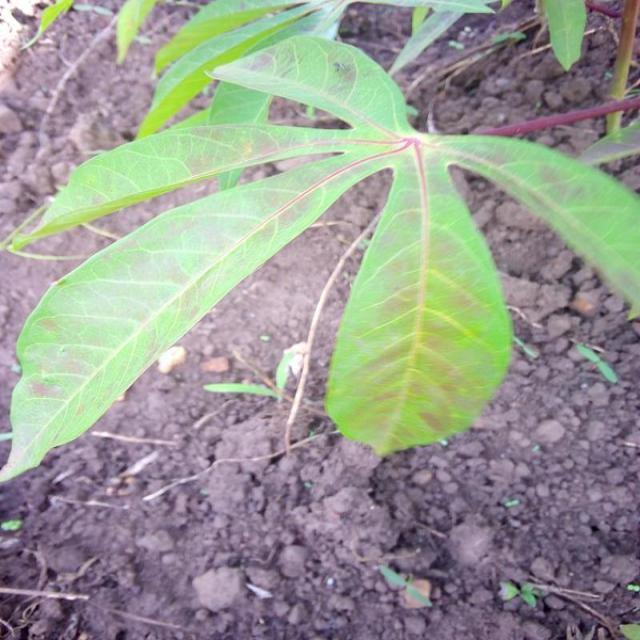cassava leaf: (0, 31, 639, 484), (323, 138, 514, 458)
